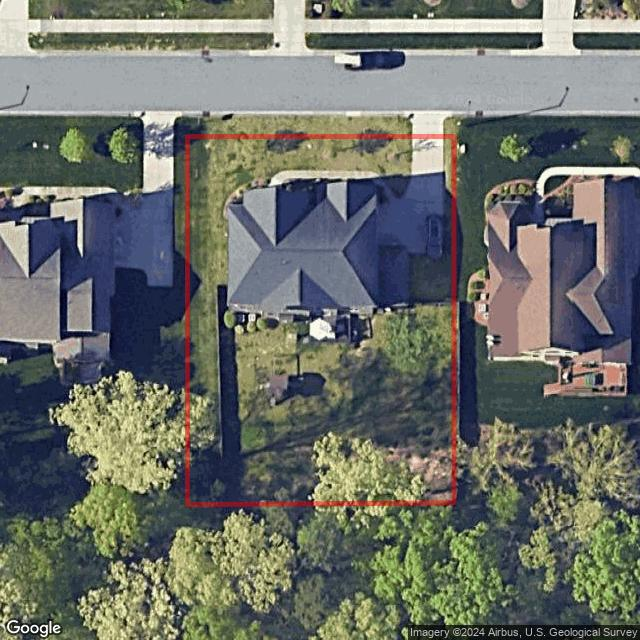Driveway: (377, 136, 443, 253)
Extra-Driveway: (407, 117, 446, 137)
Extra-Lawn: (187, 116, 413, 138), (443, 117, 453, 138)
House: (227, 182, 409, 308)
Lawn: (187, 137, 455, 504)
Other: (229, 306, 376, 341), (282, 178, 389, 205), (223, 177, 272, 219)
Sidewalk: (268, 170, 398, 202)
